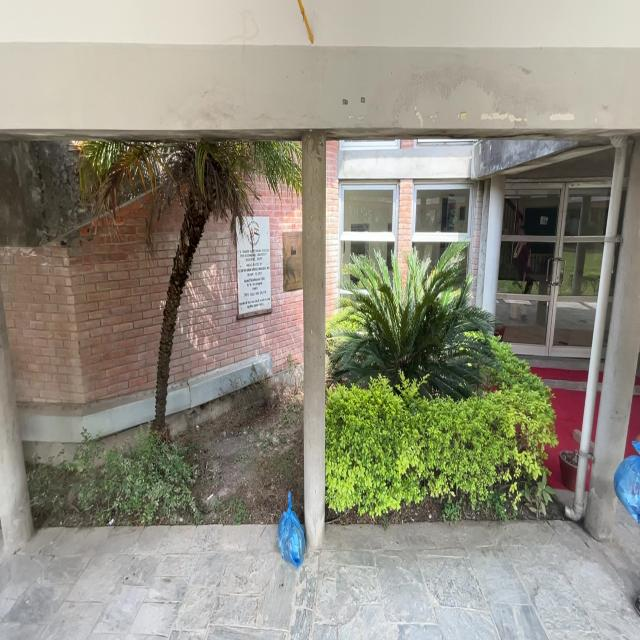garbage: (264, 486, 316, 580)
